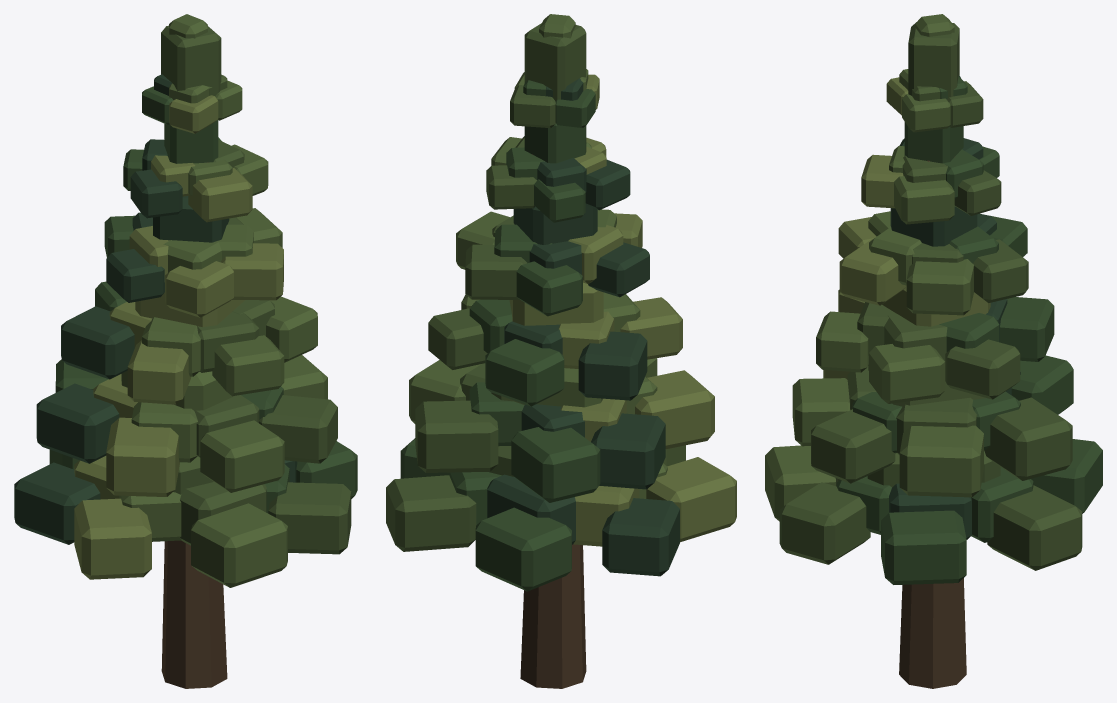
File: pine_mature.glb
The picture shows the model from 3 angles, left to right: view 1: azimuth 30°, elevation 25°; view 2: azimuth 150°, elevation 25°; view 3: azimuth 270°, elevation 25°; orthographic projection.
Visible parts, largest first — view 1: pine_mature; view 2: pine_mature; view 3: pine_mature.
Boxes of the visible parts, box(x1,y1,x2,y2) form: pine_mature: box(14, 14, 357, 688); pine_mature: box(386, 14, 736, 688); pine_mature: box(765, 14, 1102, 688).
Size of the model in its own units: 9.28 by 20 by 9.38.
